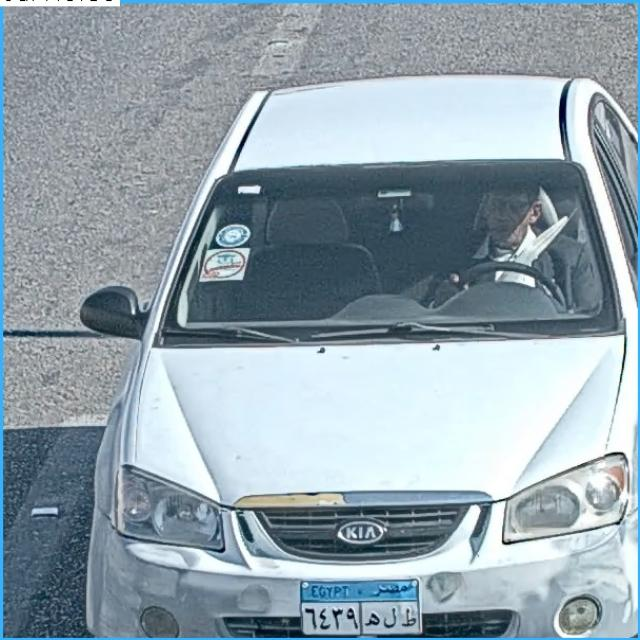windshield: (164, 167, 628, 335)
